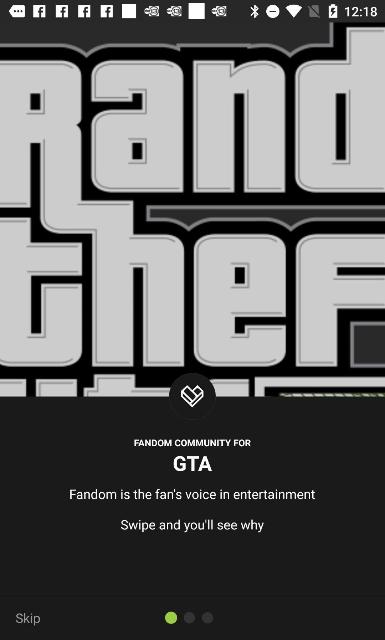Image: (0, 22, 384, 396), (168, 372, 216, 420)
PageIndicator: (164, 610, 214, 624)
Text: (70, 488, 314, 499), (120, 520, 264, 532), (134, 439, 251, 447), (173, 456, 211, 470), (16, 612, 40, 626)
UpperTaskBar: (0, 0, 384, 22)
